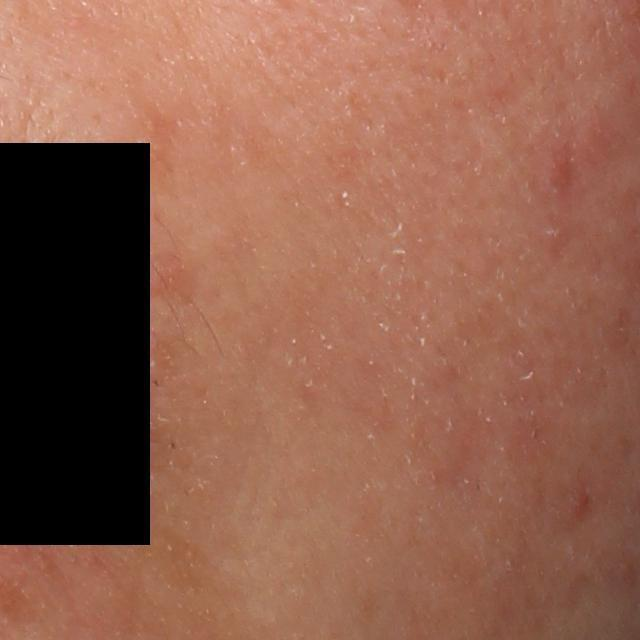papule: (543, 149, 581, 189)
